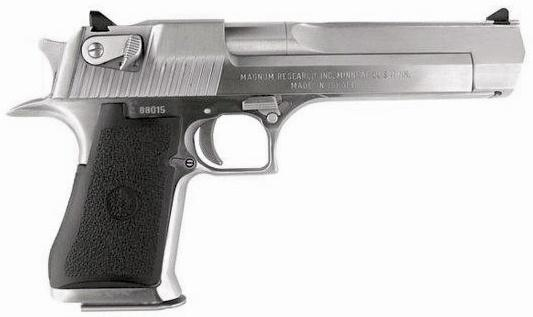gun: (9, 0, 529, 312)
